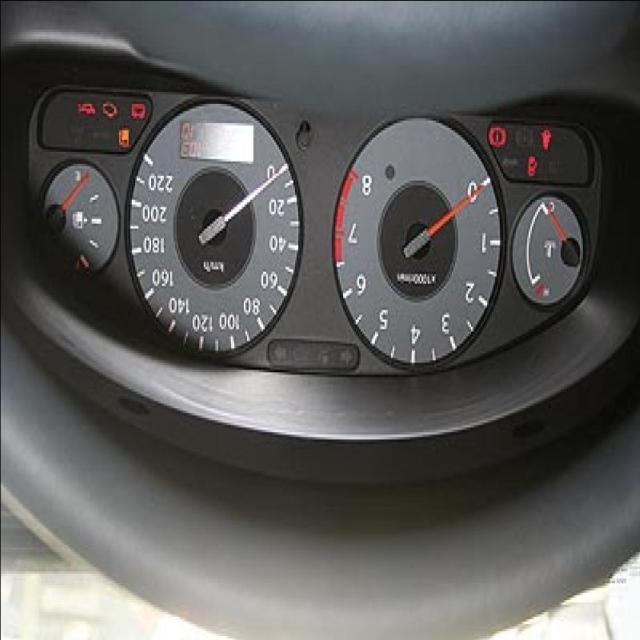Seat Belt: (540, 128, 552, 151)
